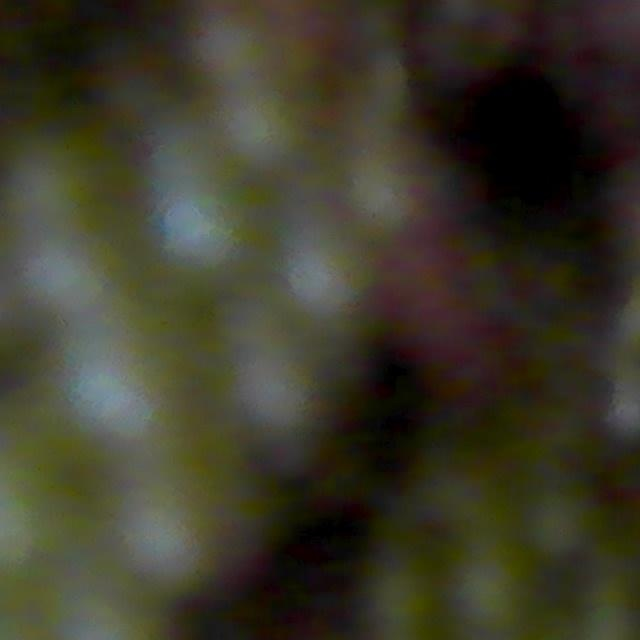SeaGrape: (57, 344, 188, 471), (117, 488, 222, 593), (281, 238, 370, 323), (157, 187, 243, 273), (449, 545, 533, 633), (221, 89, 305, 173), (526, 488, 602, 561), (363, 564, 437, 636)
